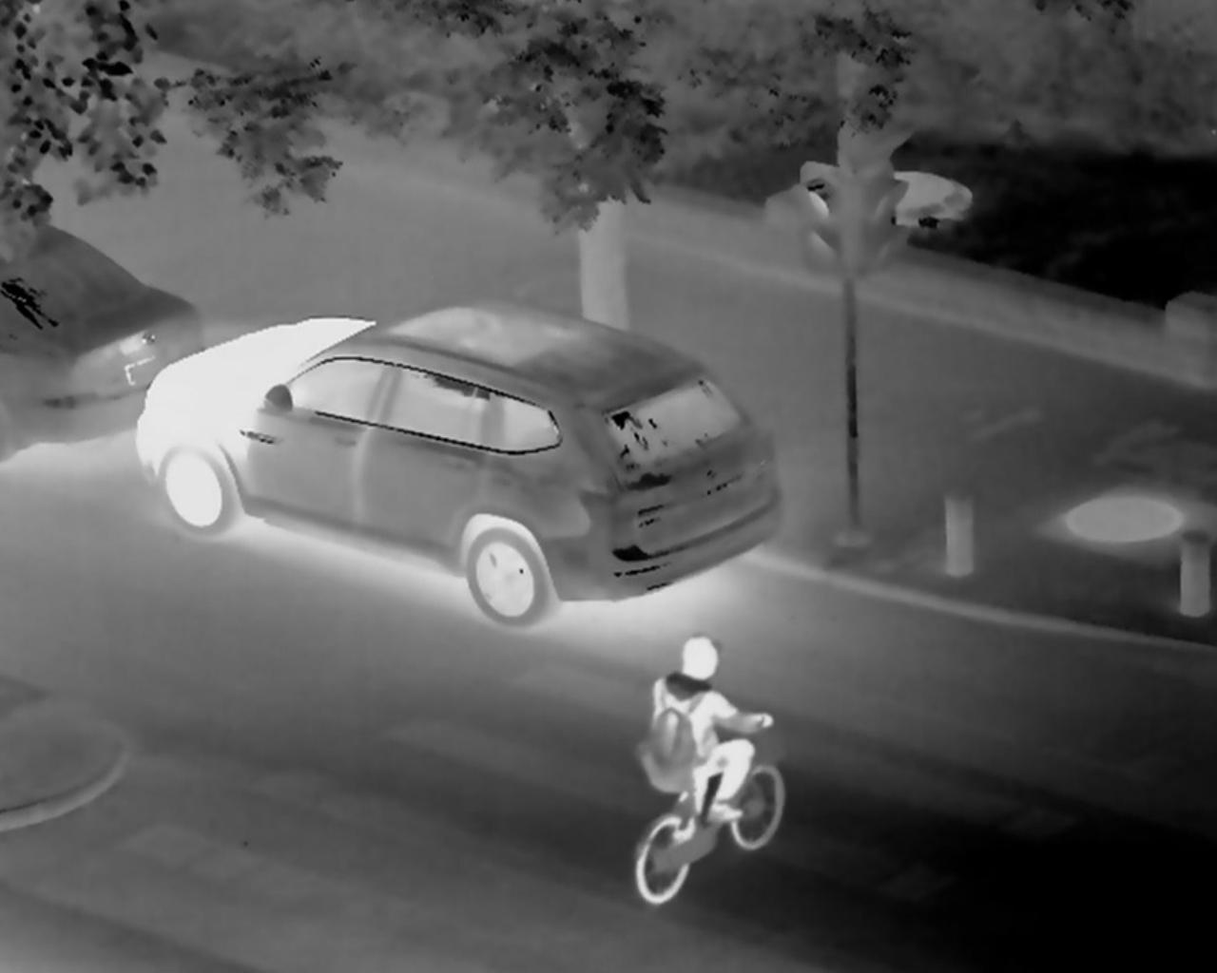person: (641, 639, 777, 837)
